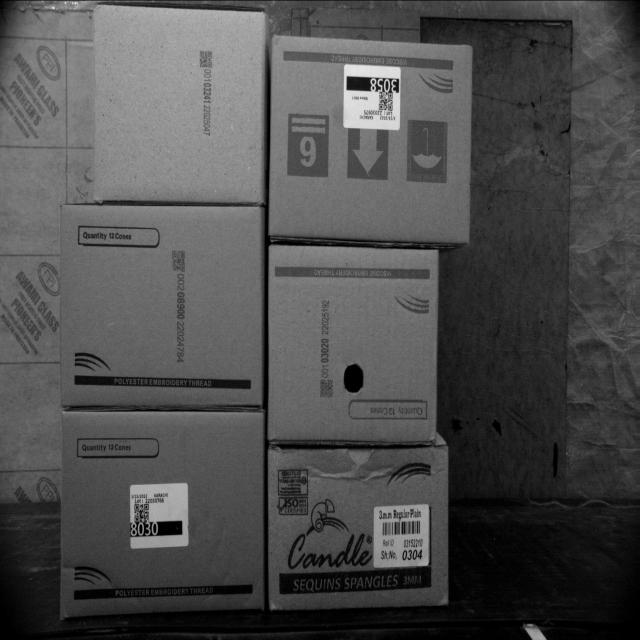cardboxes: (272, 35, 474, 243), (60, 206, 266, 407), (60, 414, 265, 612), (266, 245, 440, 442), (93, 5, 264, 202), (267, 443, 451, 612)
